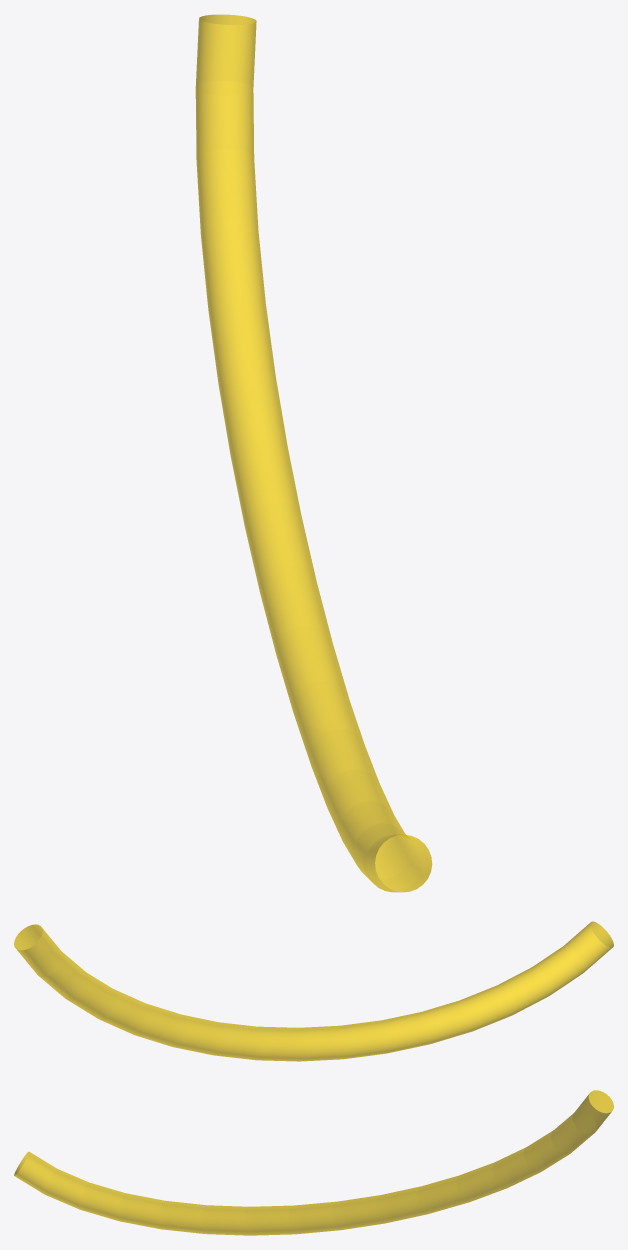
Rendered from Event_40932208_track_28.fbx.
3 views of the same model, one above another, from view 1: azimuth 30°, elevation 25°; view 2: azimuth 150°, elevation 25°; view 3: azimuth 270°, elevation 25° (orthographic). The views are drawn at different scales.
Parts seen in each view (by area): view 1: Model; view 2: Model; view 3: Model.
Part boxes in pixels (<box>): Model: <box>195,14,432,892</box>; Model: <box>14,921,613,1061</box>; Model: <box>14,1090,613,1235</box>.
Bounding box in the file's own units: 0.3603 × 0.3208 × 0.8301.
